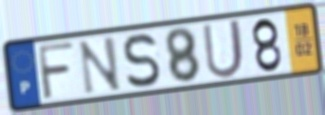8: (163, 24, 203, 86), (250, 16, 283, 73)
F: (35, 40, 77, 103)
N: (76, 34, 123, 97)
S: (122, 31, 162, 90)
U: (200, 17, 246, 81)
